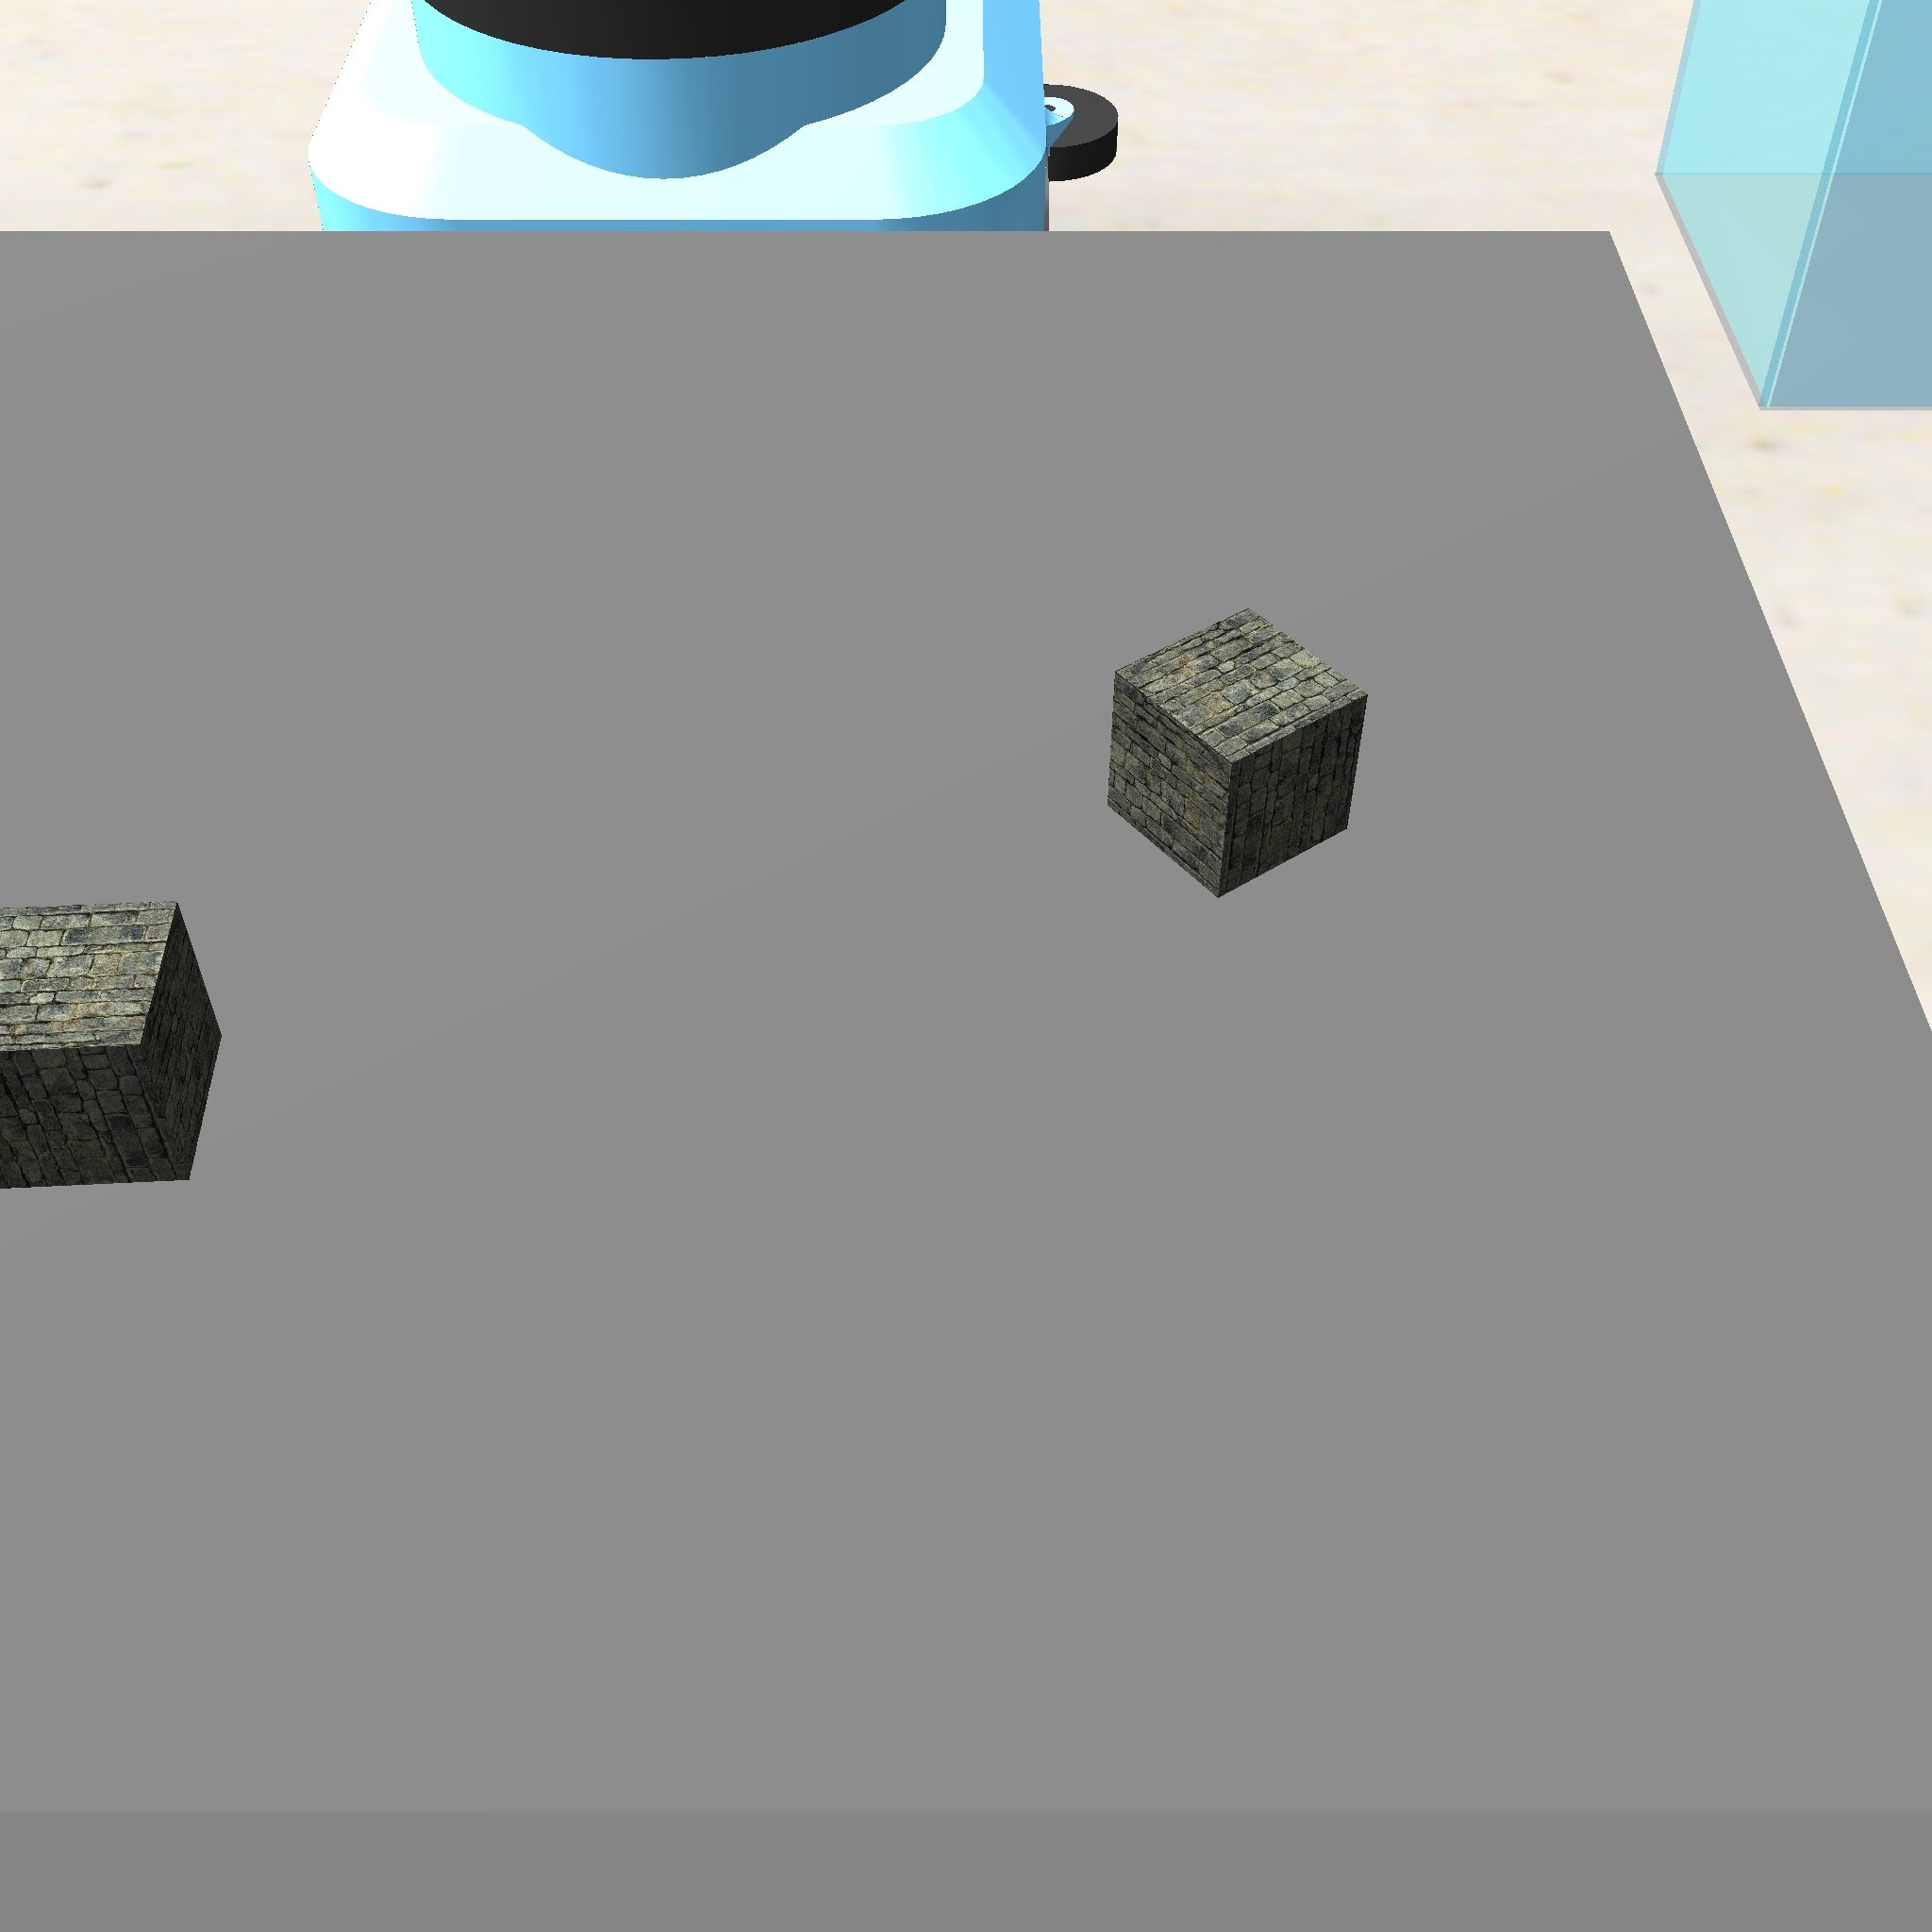cube: (1102, 602, 1376, 908), (0, 888, 228, 1198)
